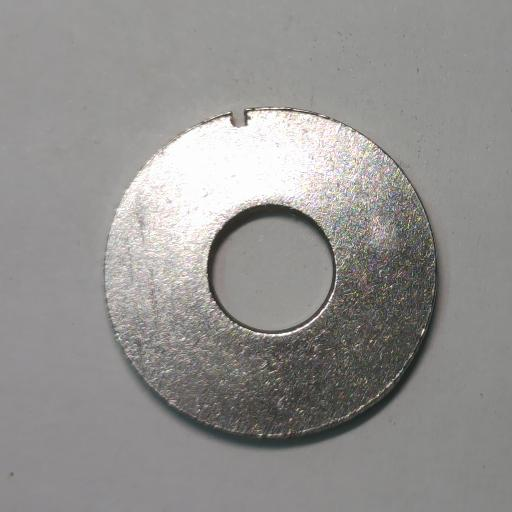burr: (230, 109, 251, 128)
